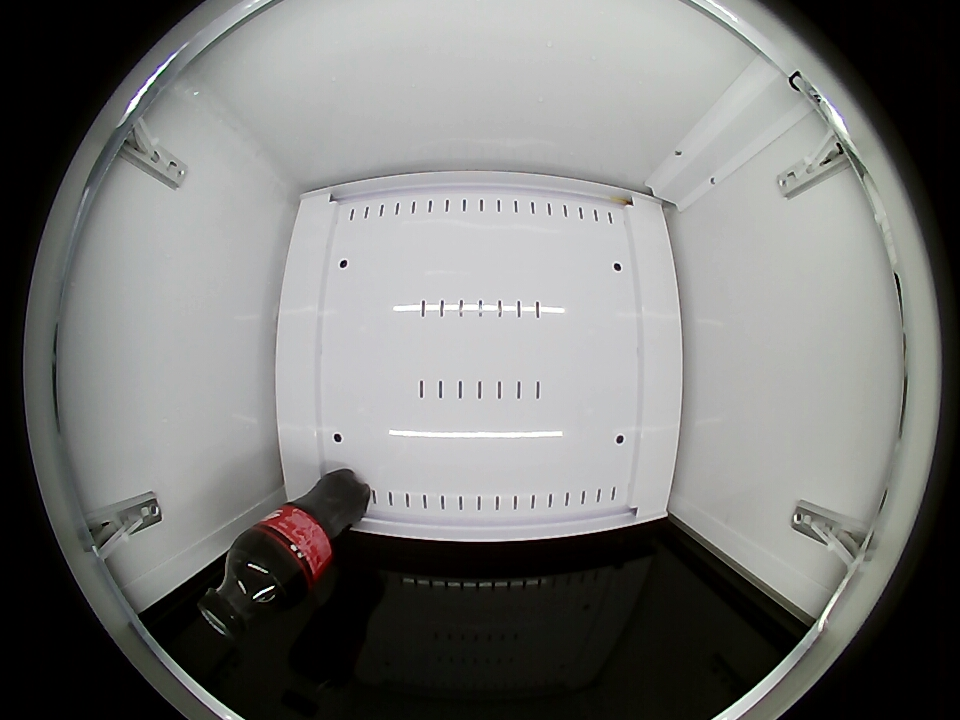lingdukele-b: (197, 547, 293, 641)
